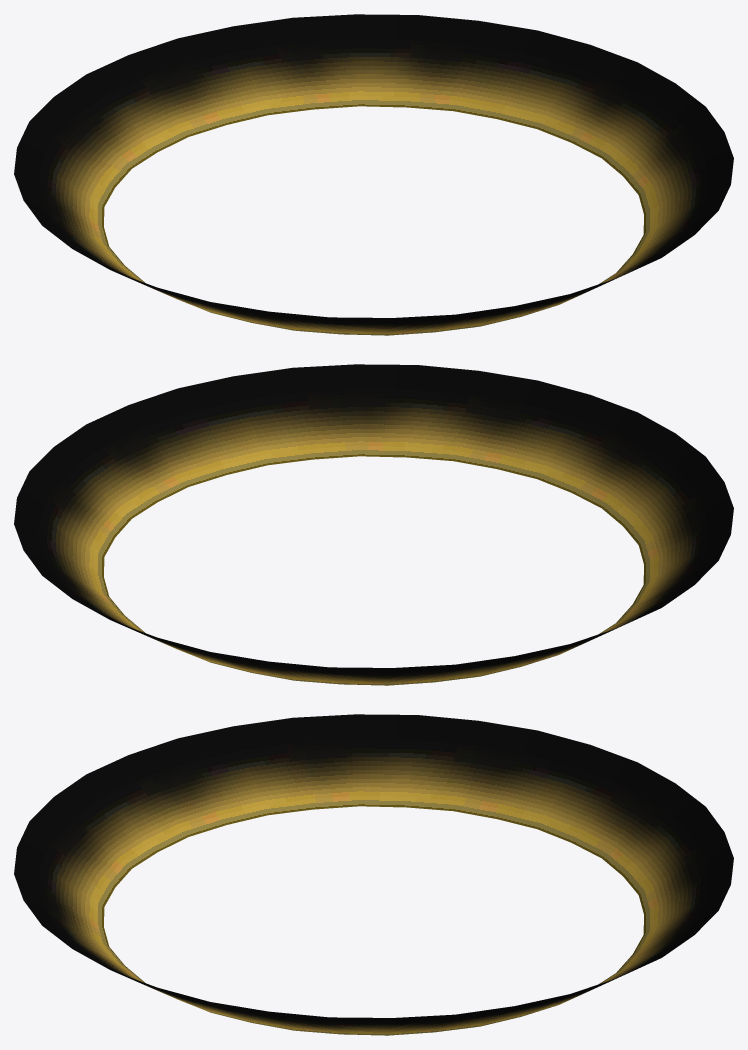
Rendered from wave_inner.fbx.
The picture shows the model from 3 angles, top to bottom: view 1: azimuth 30°, elevation 25°; view 2: azimuth 150°, elevation 25°; view 3: azimuth 270°, elevation 25°; orthographic projection.
Parts seen in each view (by area): view 1: power_wave1; view 2: power_wave1; view 3: power_wave1.
Boxes of the visible parts, x1,y1,x2,y2 form: power_wave1: (14,14,733,335); power_wave1: (14,364,733,685); power_wave1: (14,714,733,1035).
Bounding box in the file's own units: 3.79 × 0.319 × 3.8.
